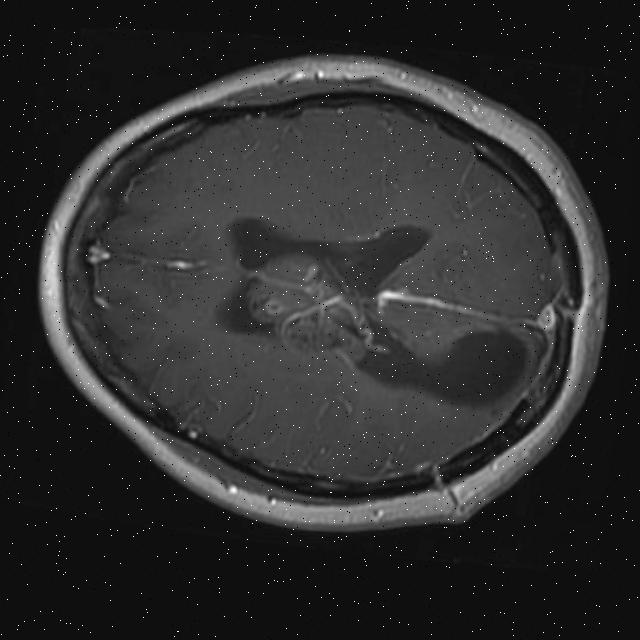Glioma: (240, 250, 377, 363)
